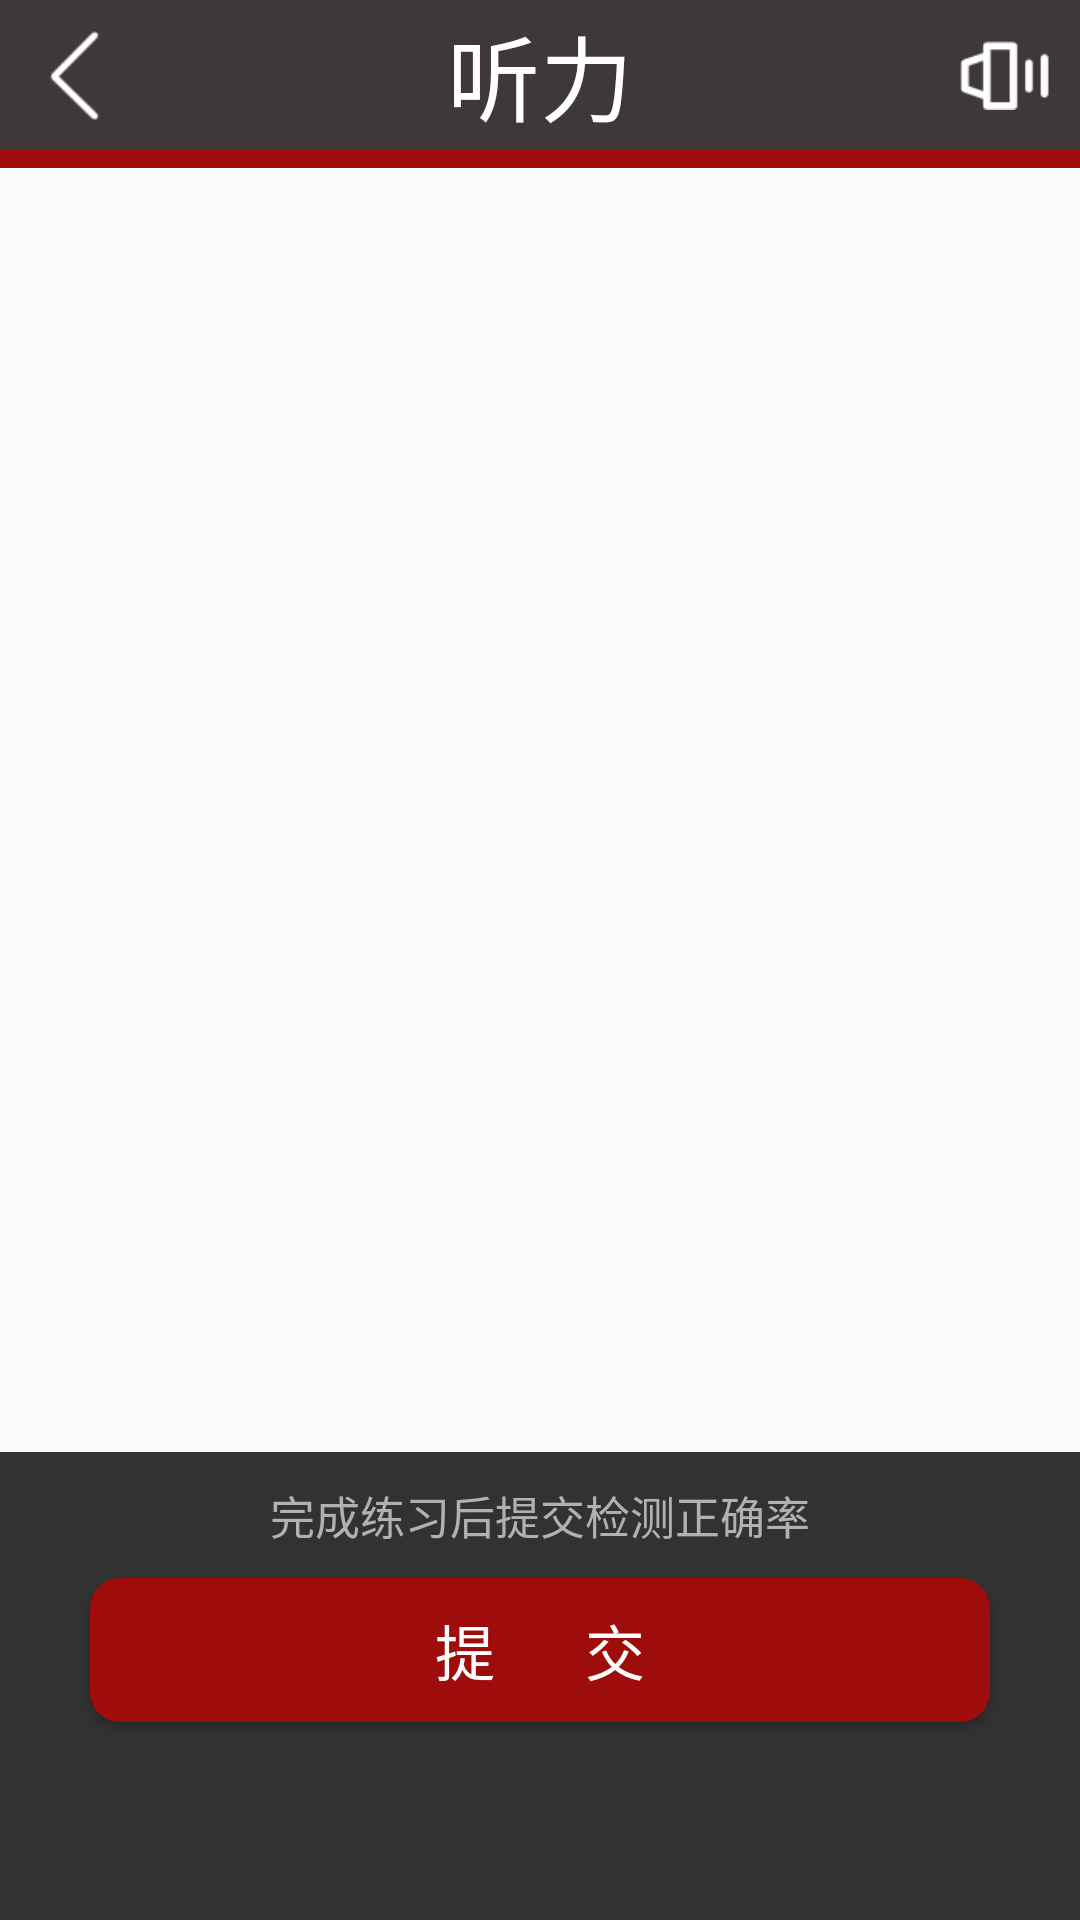

Named icons in this screenshot (1080*1920) and their bounding boxes, (x1, y1, x2, y2):
back: (50, 31, 99, 120)
voice: (960, 41, 1049, 110)
